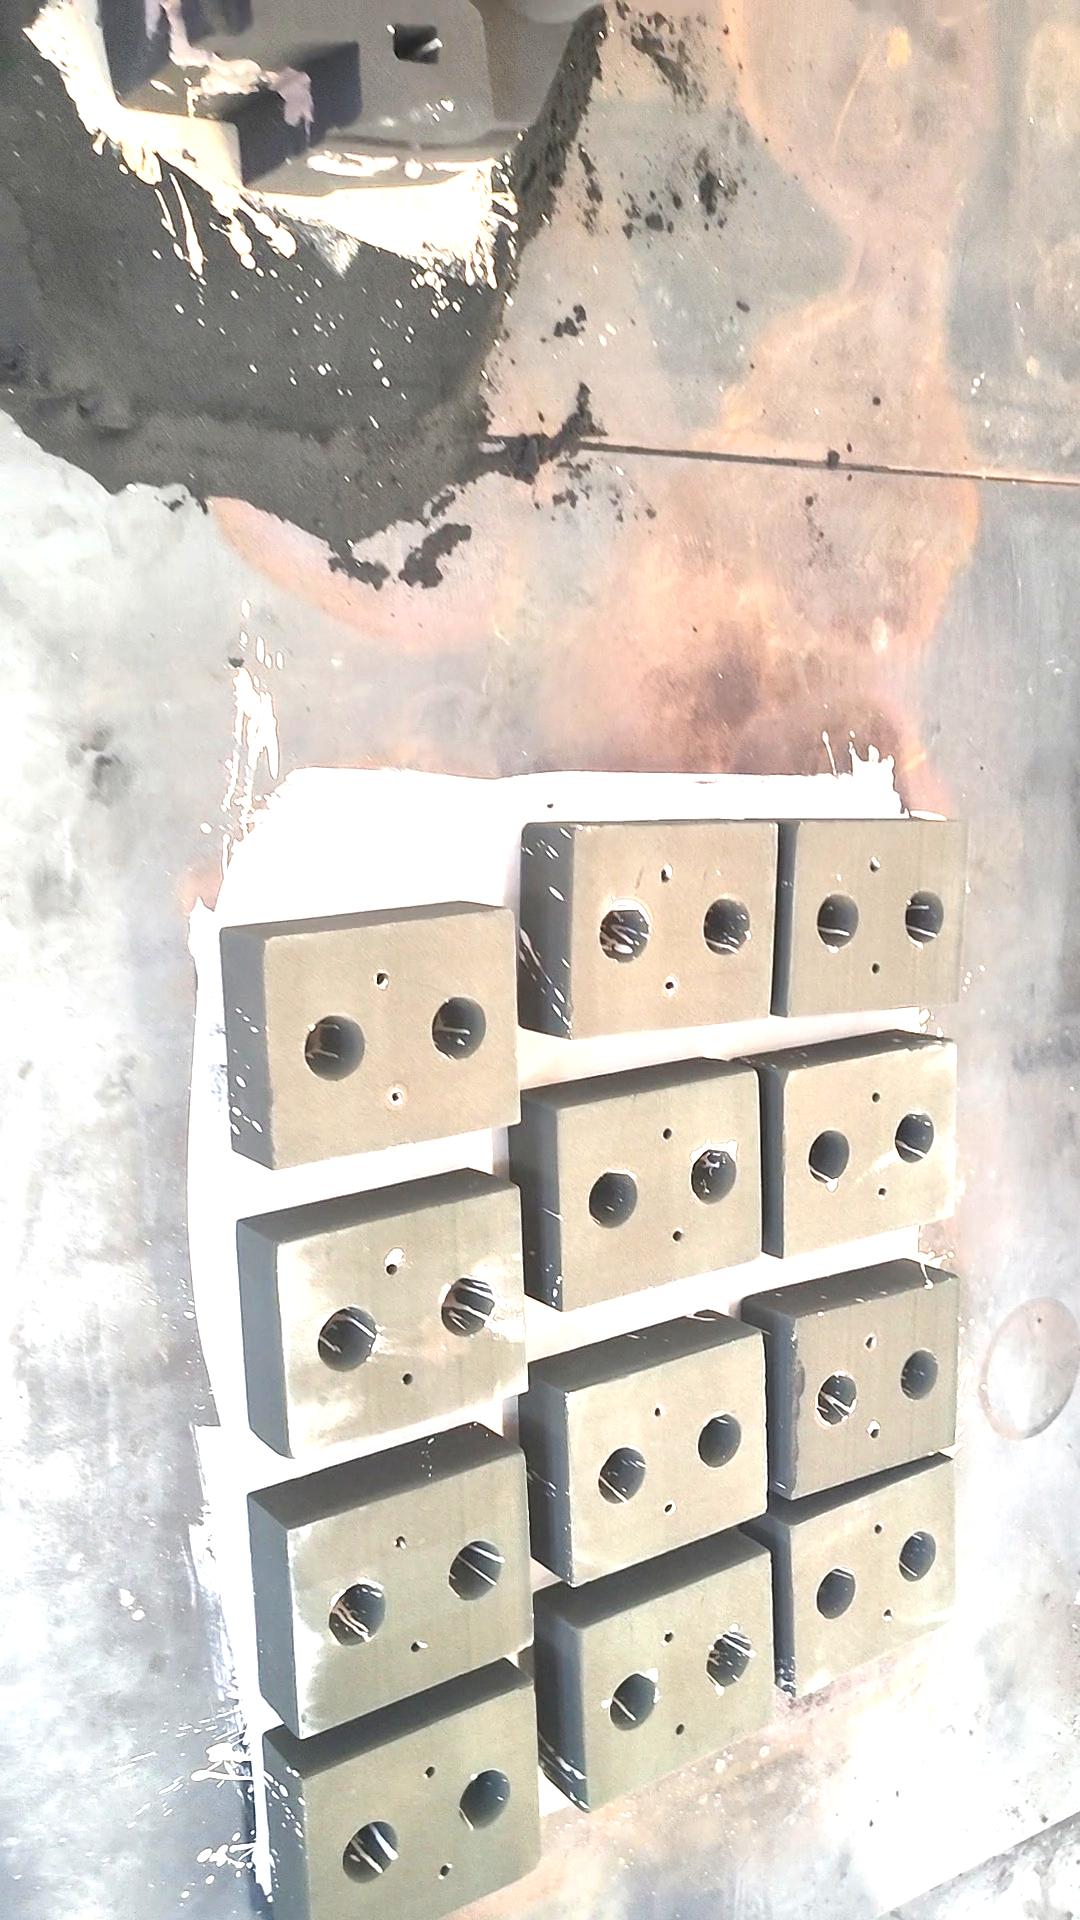pouring hole: (305, 1013, 367, 1084), (316, 1305, 378, 1371), (327, 1581, 386, 1644), (431, 996, 487, 1063), (343, 1818, 397, 1884), (440, 1274, 496, 1337), (597, 898, 651, 963), (585, 1168, 641, 1230), (448, 1539, 502, 1601), (703, 894, 752, 957), (462, 1768, 512, 1829), (596, 1447, 647, 1503), (816, 890, 862, 949), (688, 1150, 738, 1204), (611, 1673, 657, 1730), (705, 1633, 752, 1687), (698, 1412, 742, 1468), (905, 889, 945, 945), (808, 1130, 849, 1185), (894, 1108, 935, 1163), (815, 1371, 856, 1427), (815, 1568, 856, 1619), (899, 1349, 939, 1400), (899, 1531, 936, 1582)
